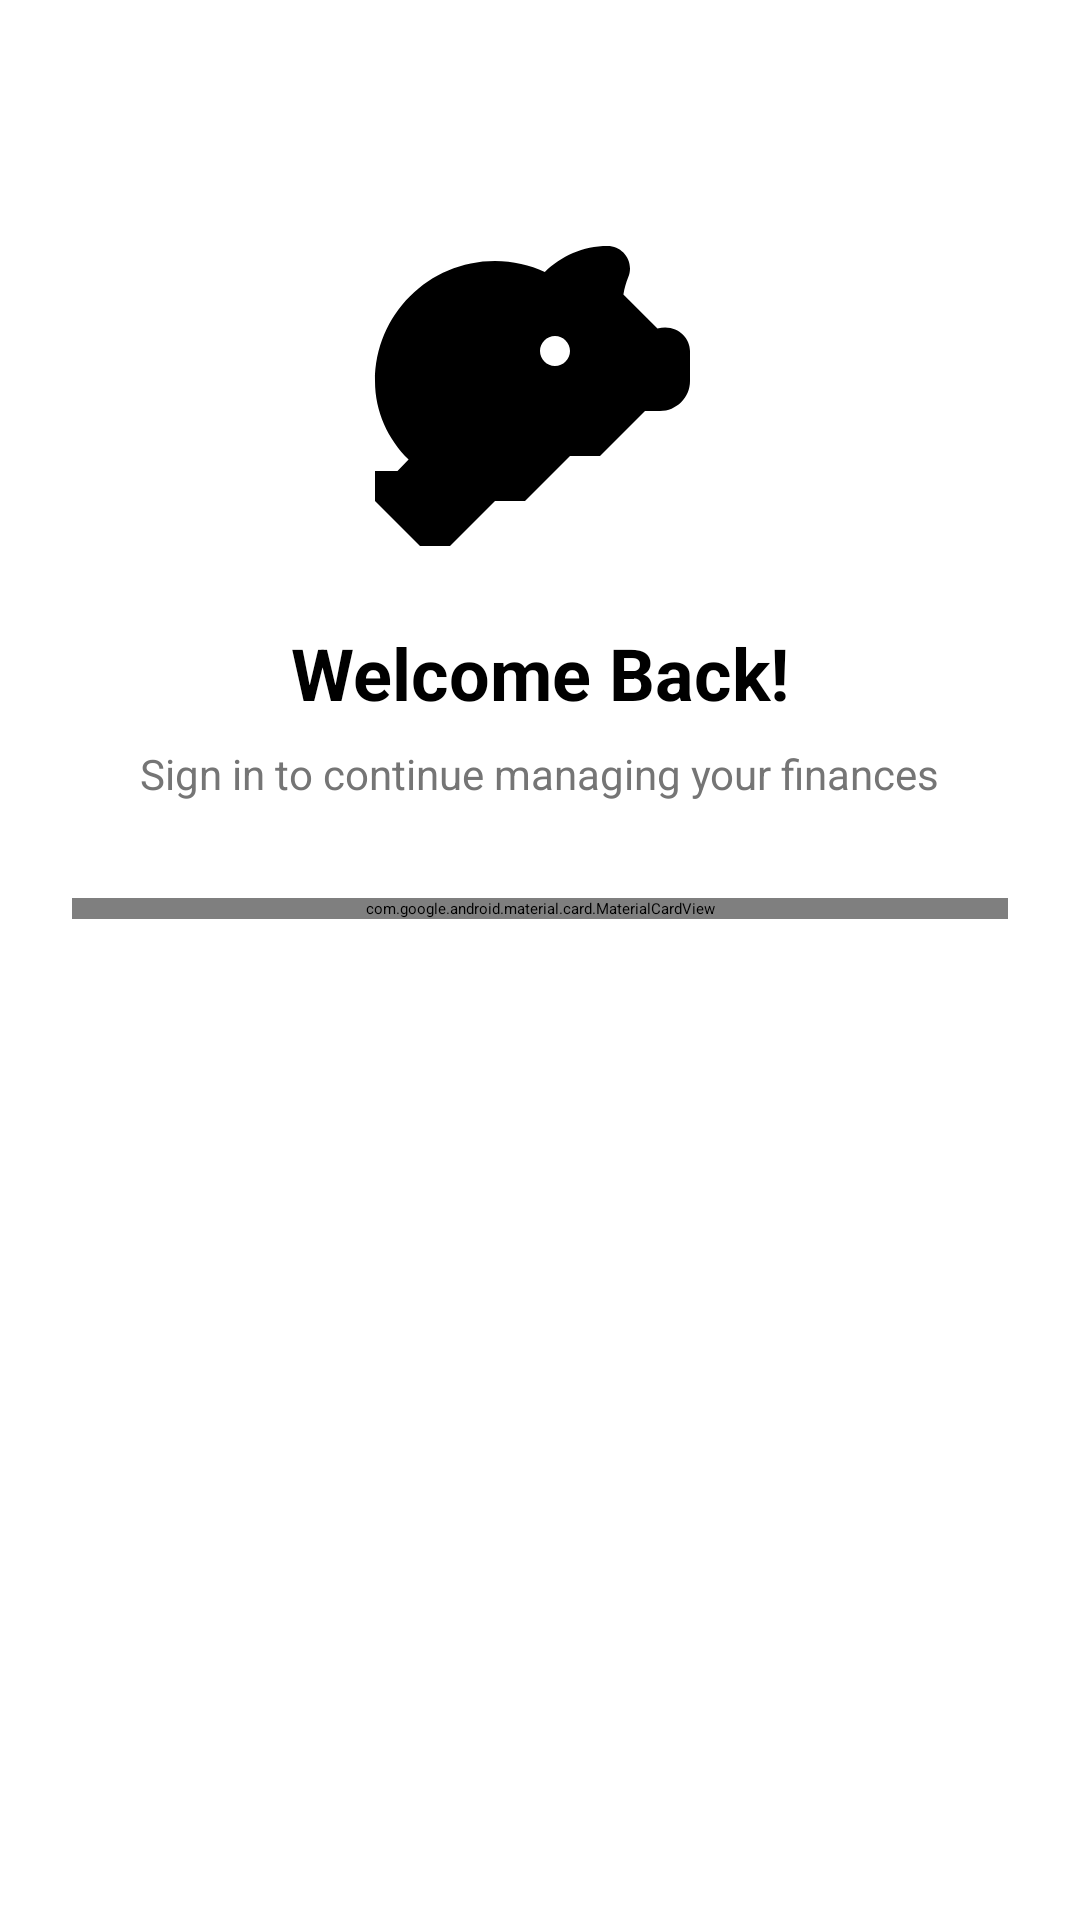

Icons on this 1080 × 1920 Android screen, each with the point to tap as (x,y):
piggy bank: (532,396)
